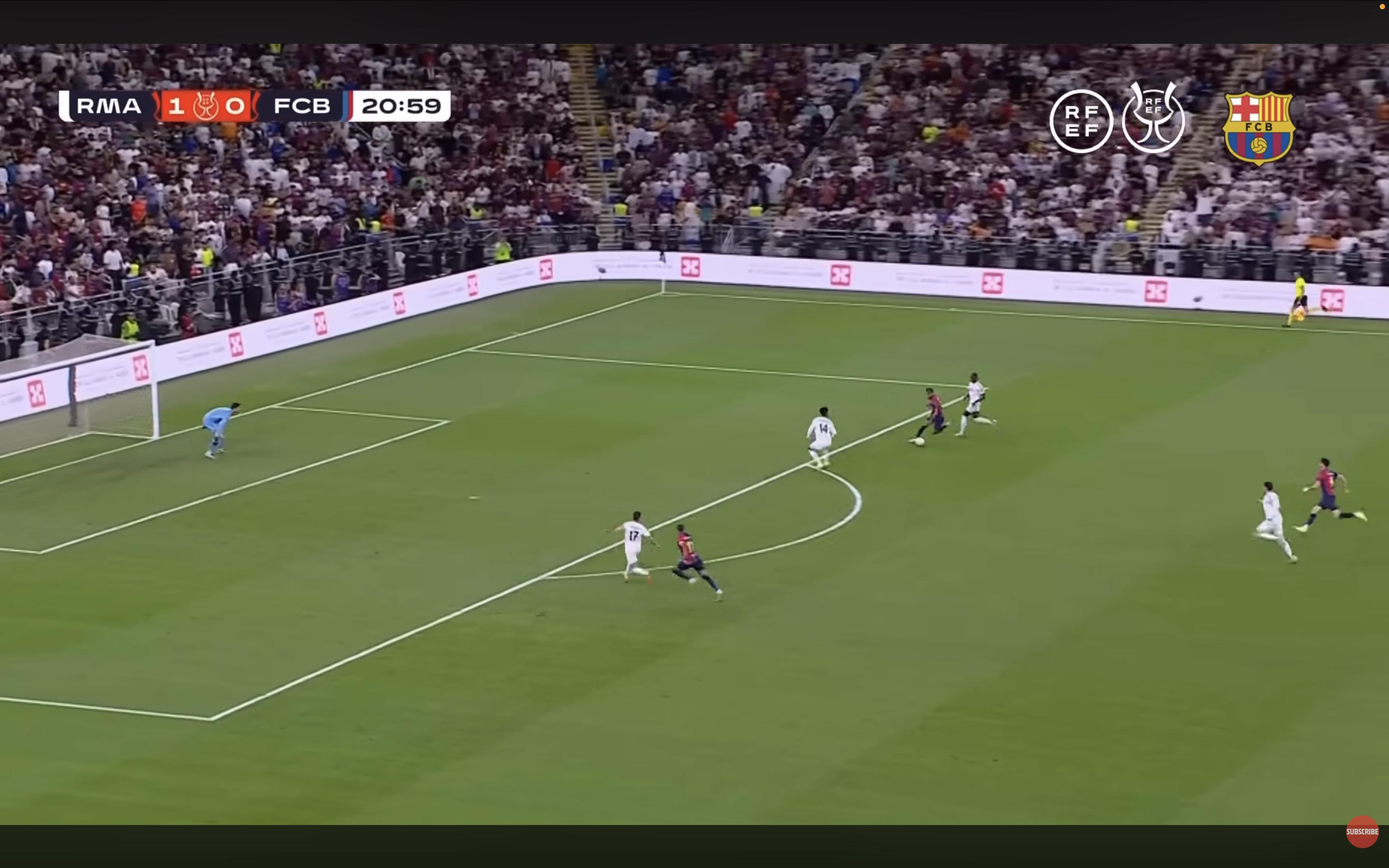ball: (912, 437, 926, 446)
goalkeeper: (203, 402, 240, 458)
player: (1296, 458, 1367, 533), (672, 524, 721, 599), (609, 512, 659, 583), (1254, 482, 1297, 563), (955, 373, 996, 436), (909, 388, 949, 446), (807, 407, 837, 468)
referee: (1284, 274, 1309, 327)
